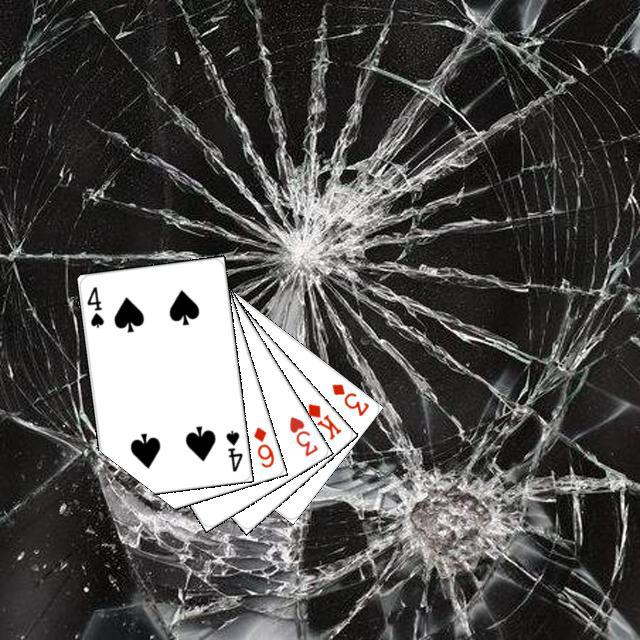3d: (327, 379, 371, 418)
3h: (284, 411, 320, 458)
4s: (221, 425, 244, 473), (82, 282, 105, 330)
6d: (248, 422, 276, 469)
Kd: (303, 398, 343, 442)
